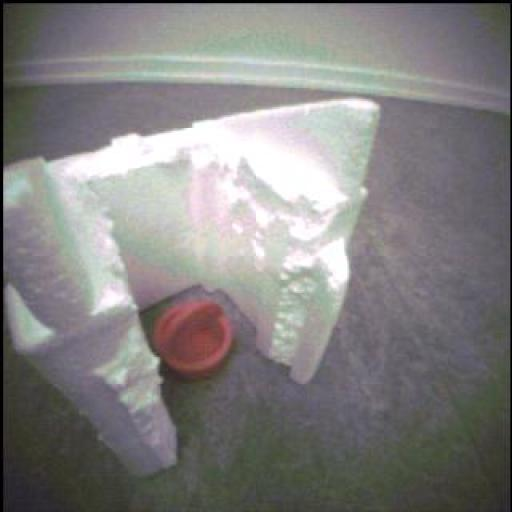Bucket: (153, 298, 237, 381)
